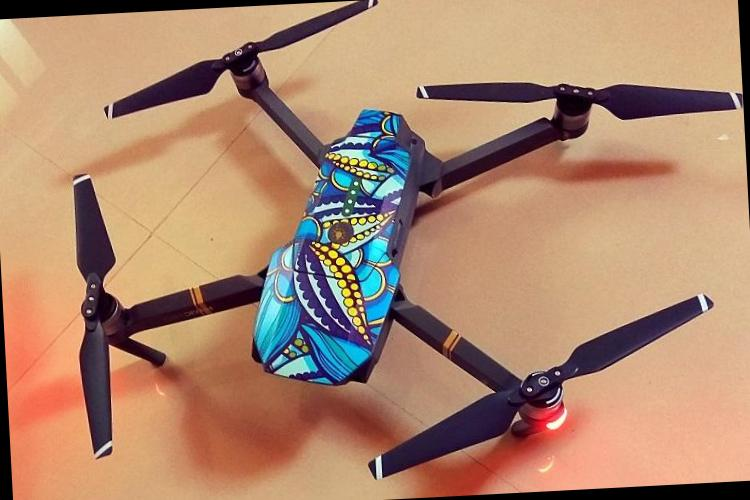drone: (17, 4, 696, 476)
